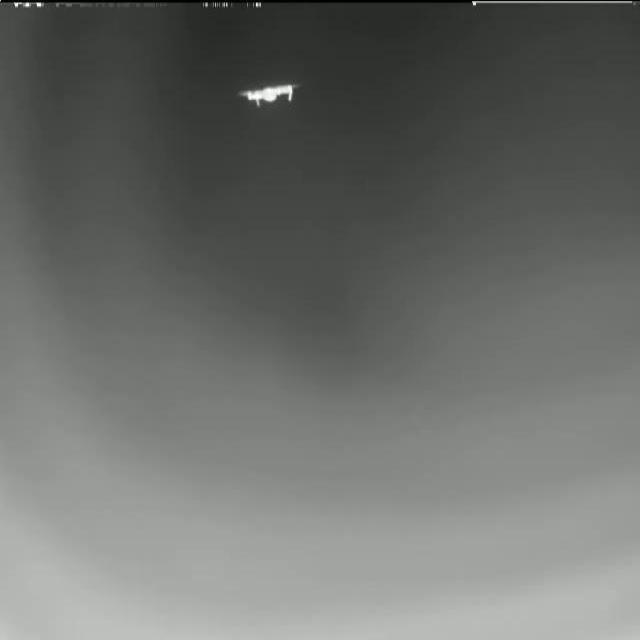DRONE: (235, 79, 304, 106)
